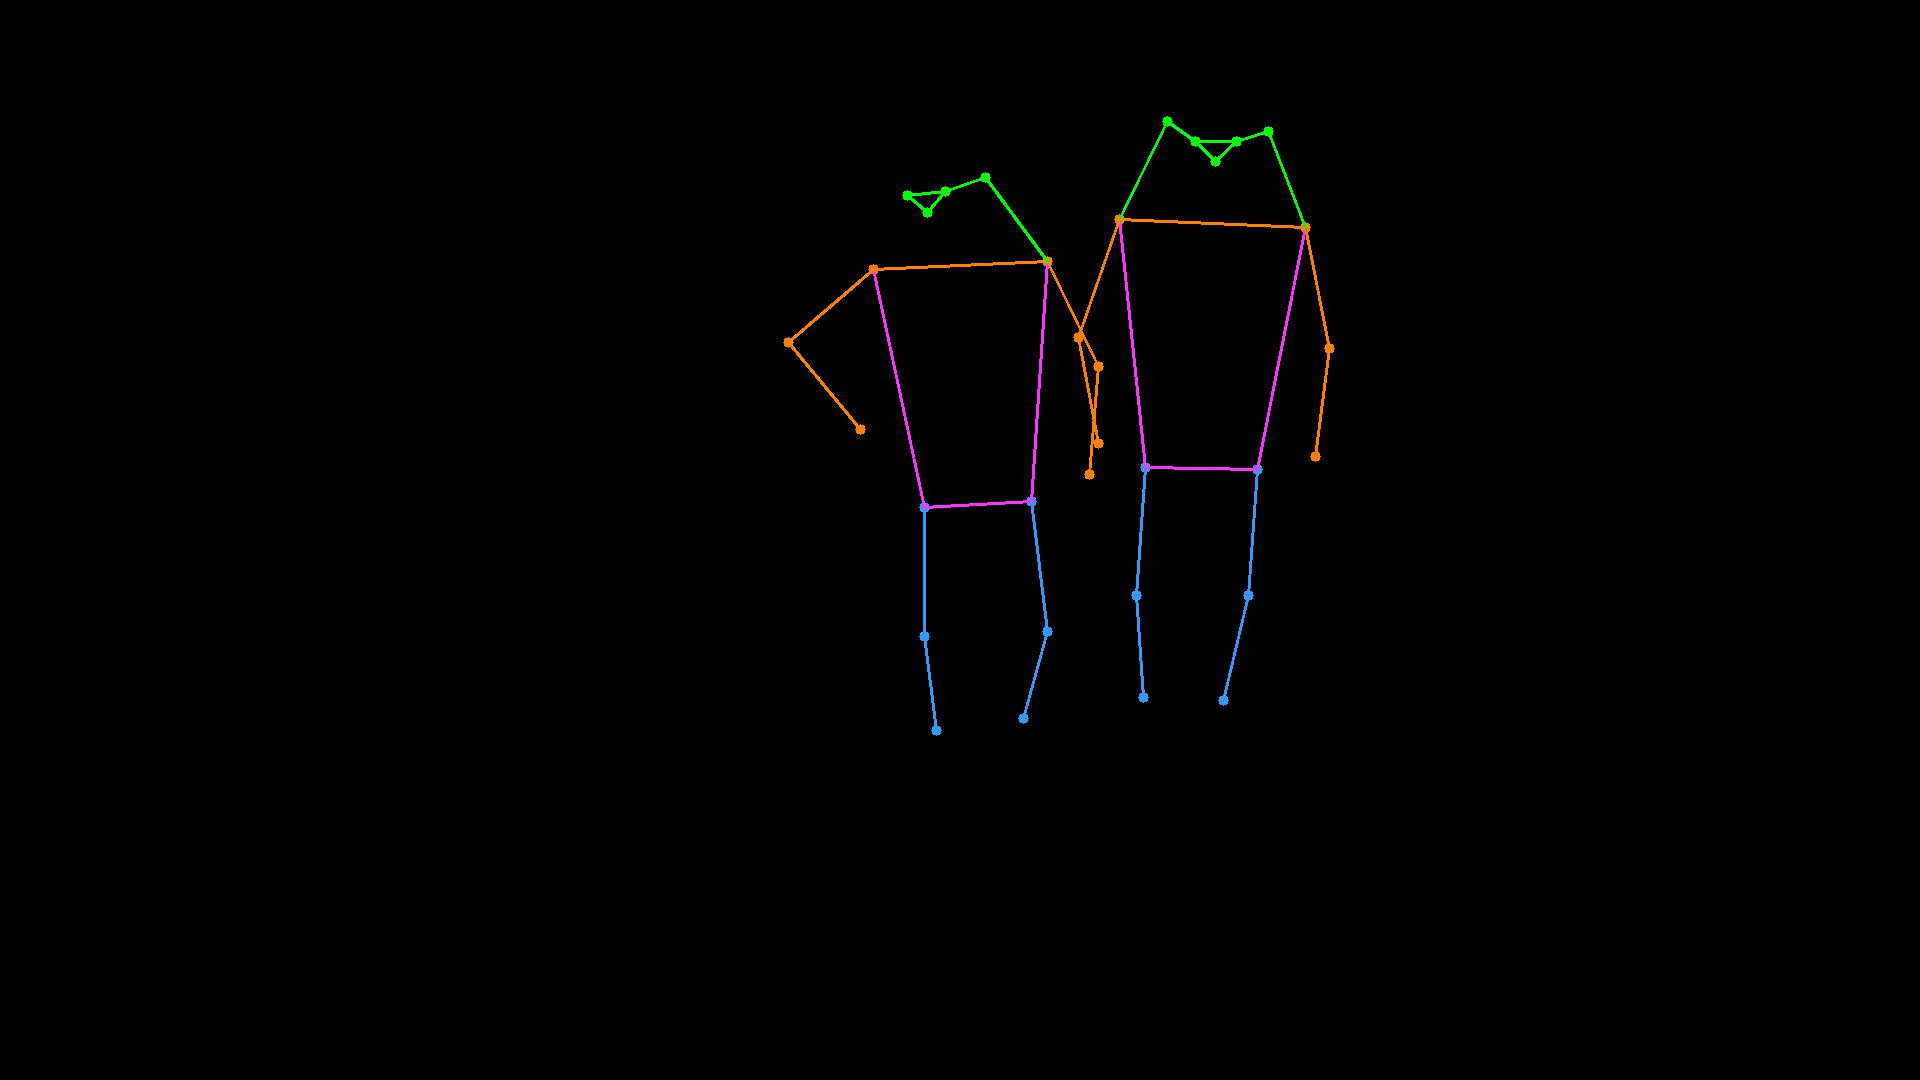normal: (720, 98, 1433, 765)
